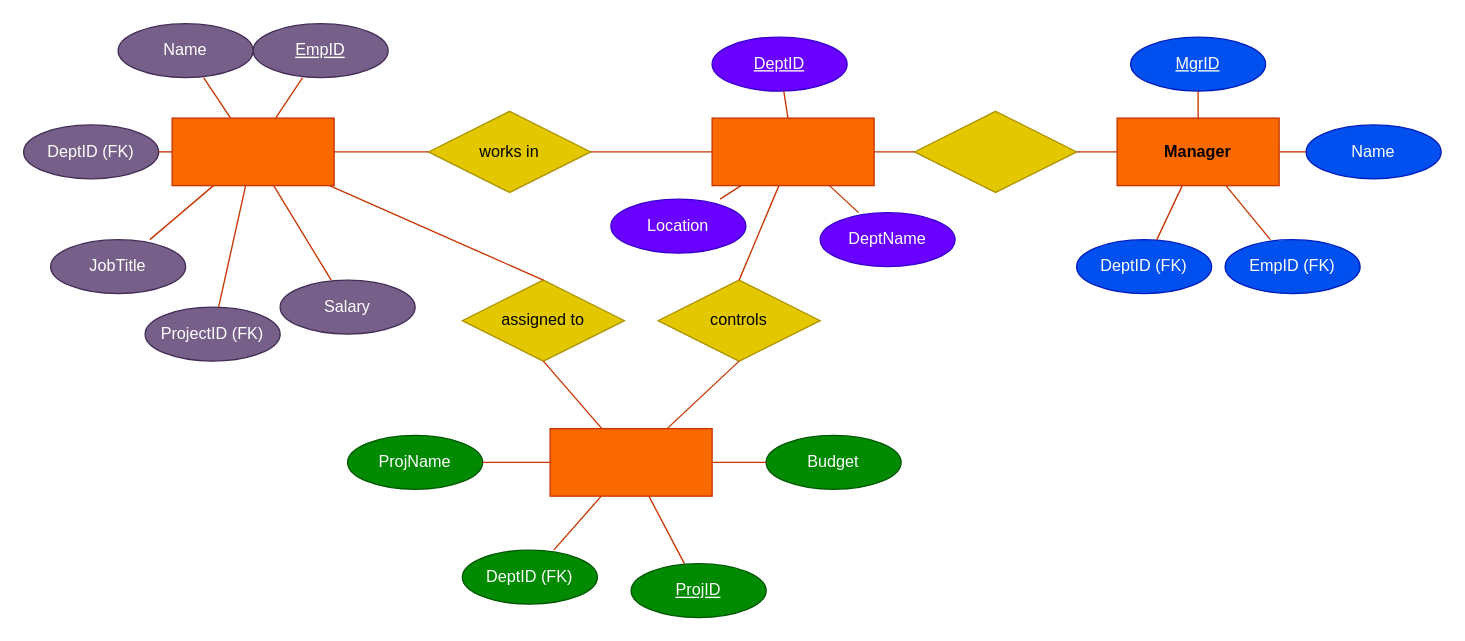
Image size: 1465x641. Some labels were removed from this diagram. The centre of each missing label's shape, as x and y in pixels:
"Department" belongs at point (792, 151).
"Employee" belongs at point (252, 151).
"manages" belongs at point (995, 151).
"Project" belongs at point (630, 461).
